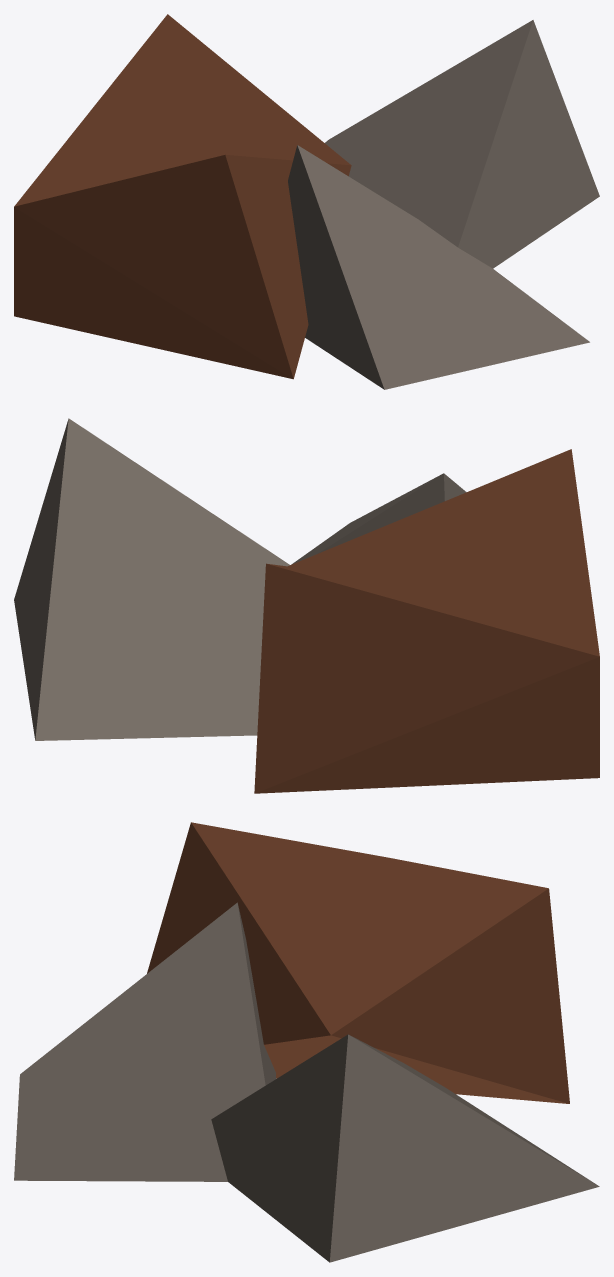
The model's file is Rock.006.fbx.
3 renders of one model, top to bottom at view 1: azimuth 30°, elevation 25°; view 2: azimuth 150°, elevation 25°; view 3: azimuth 270°, elevation 25°, orthographic. The views are drawn at different scales.
Parts seen in each view (by area): view 1: Rock.006; view 2: Rock.006; view 3: Rock.006.
Part boxes in pixels (x1,y1,x2,y2): Rock.006: (14, 14, 599, 389); Rock.006: (14, 418, 599, 793); Rock.006: (14, 822, 599, 1262).
Bounding box in the file's own units: 1.02 × 0.3656 × 0.8657.
